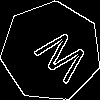W: (26, 26, 92, 92)
